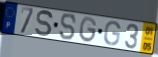3: (124, 23, 140, 50)
7: (20, 5, 34, 36)
G: (79, 16, 98, 45), (102, 20, 122, 46)
S: (35, 9, 54, 38), (59, 12, 77, 41)
